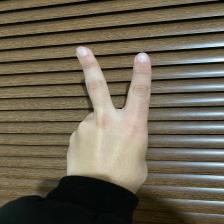two: (62, 44, 158, 184)
